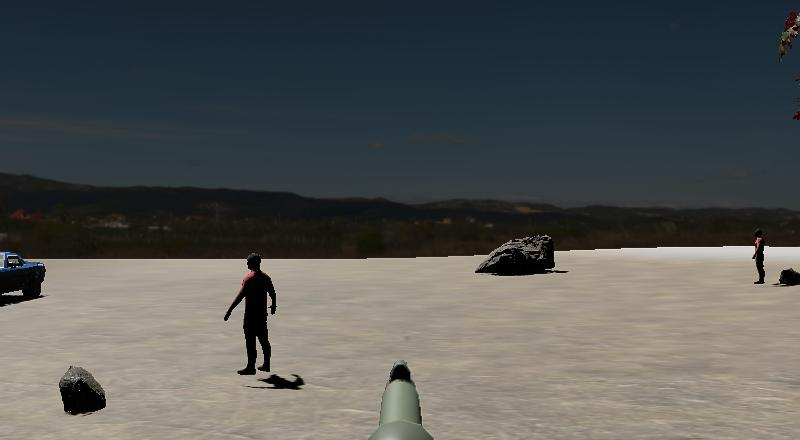Human: (220, 248, 280, 379), (748, 224, 770, 289)
car: (0, 246, 49, 311)
